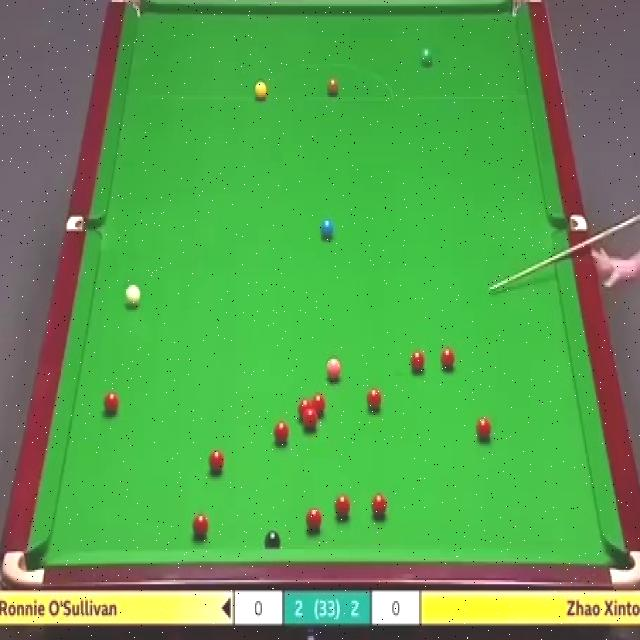black-ball: (264, 531, 281, 548)
blue-ball: (319, 218, 333, 240)
brown-ball: (326, 77, 340, 97)
green-ball: (421, 45, 432, 65)
pink-ball: (324, 352, 340, 376)
red-ball: (272, 419, 291, 446), (207, 448, 226, 474), (334, 494, 351, 522), (192, 512, 210, 538), (304, 506, 322, 532), (309, 392, 327, 417), (302, 407, 318, 435), (475, 415, 491, 443), (439, 345, 455, 372), (102, 393, 120, 415), (371, 494, 388, 517), (367, 386, 382, 411), (298, 398, 312, 423), (410, 351, 426, 372)
white-ball: (124, 282, 141, 311)
yellow-ball: (252, 81, 268, 101)
